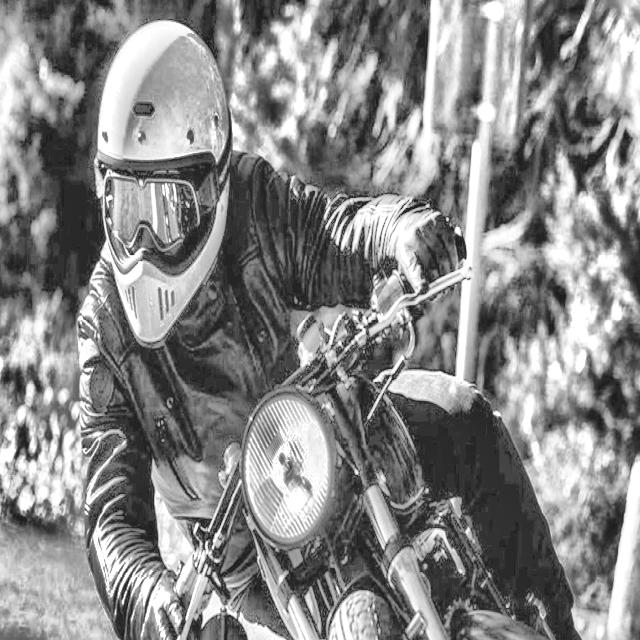Helmet: (86, 19, 235, 355)
